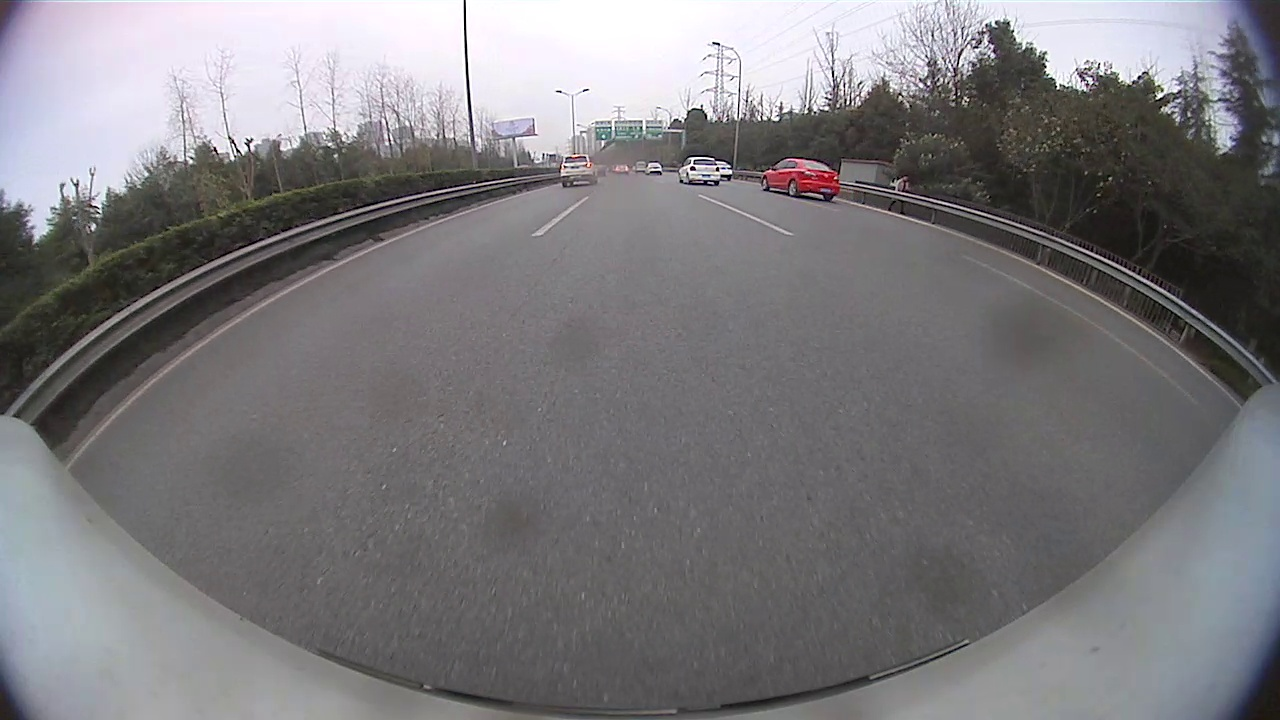car: (761, 157, 842, 203), (678, 155, 721, 186), (560, 153, 599, 187), (716, 162, 733, 182)
front: (761, 179, 770, 192)
person: (896, 175, 907, 215)
rear: (787, 181, 798, 198)
